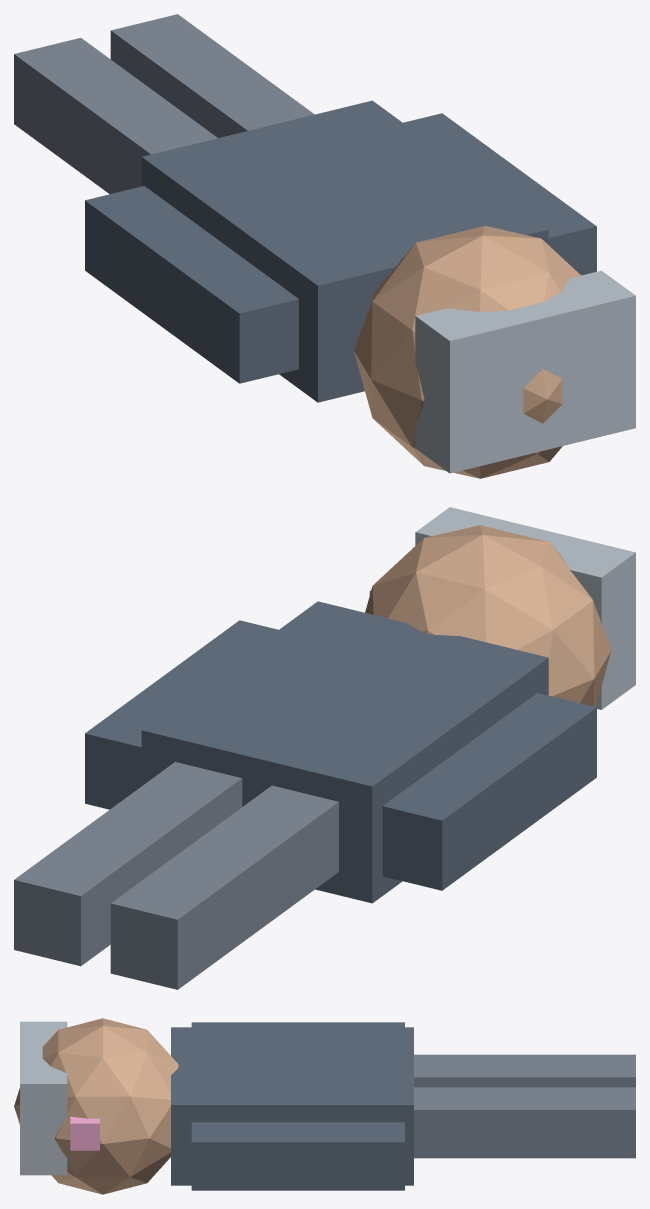
File: ceo_variant_2.glb
3 renders of one model, top to bottom at view 1: azimuth 30°, elevation 25°; view 2: azimuth 150°, elevation 25°; view 3: azimuth 270°, elevation 25°, orthographic. The views are drawn at different scales.
Parts seen in each view (by area): view 1: torso_2, hair_6, arm_l_3, head_5, leg_l_0, leg_r_1, arm_r_4; view 2: torso_2, leg_l_0, arm_l_3, head_5, leg_r_1, arm_r_4, hair_6; view 3: torso_2, head_5, leg_r_1, arm_r_4, leg_l_0, hair_6, arm_l_3, earring_or_badge_9.
Part boxes in pixels (box(x1,y1,x2,y2)): torso_2: box(141, 100, 548, 402); hair_6: box(415, 270, 635, 473); arm_l_3: box(85, 186, 298, 383); head_5: box(354, 226, 580, 478); leg_l_0: box(14, 38, 217, 193); leg_r_1: box(110, 14, 314, 137); arm_r_4: box(403, 113, 596, 275); torso_2: box(141, 601, 548, 903); leg_l_0: box(110, 785, 338, 989); arm_l_3: box(382, 693, 596, 890); head_5: box(365, 525, 611, 706); leg_r_1: box(14, 762, 242, 966); arm_r_4: box(85, 620, 278, 809); hair_6: box(415, 507, 635, 709); torso_2: box(171, 1027, 413, 1185); head_5: box(14, 1018, 178, 1194); leg_r_1: box(414, 1087, 635, 1158); arm_r_4: box(191, 1122, 404, 1190); leg_l_0: box(414, 1054, 635, 1087); hair_6: box(20, 1021, 67, 1175); arm_l_3: box(191, 1022, 404, 1027); earring_or_badge_9: box(70, 1116, 99, 1150).
Size of the model in its own units: 0.96 by 0.6 by 2.1.
